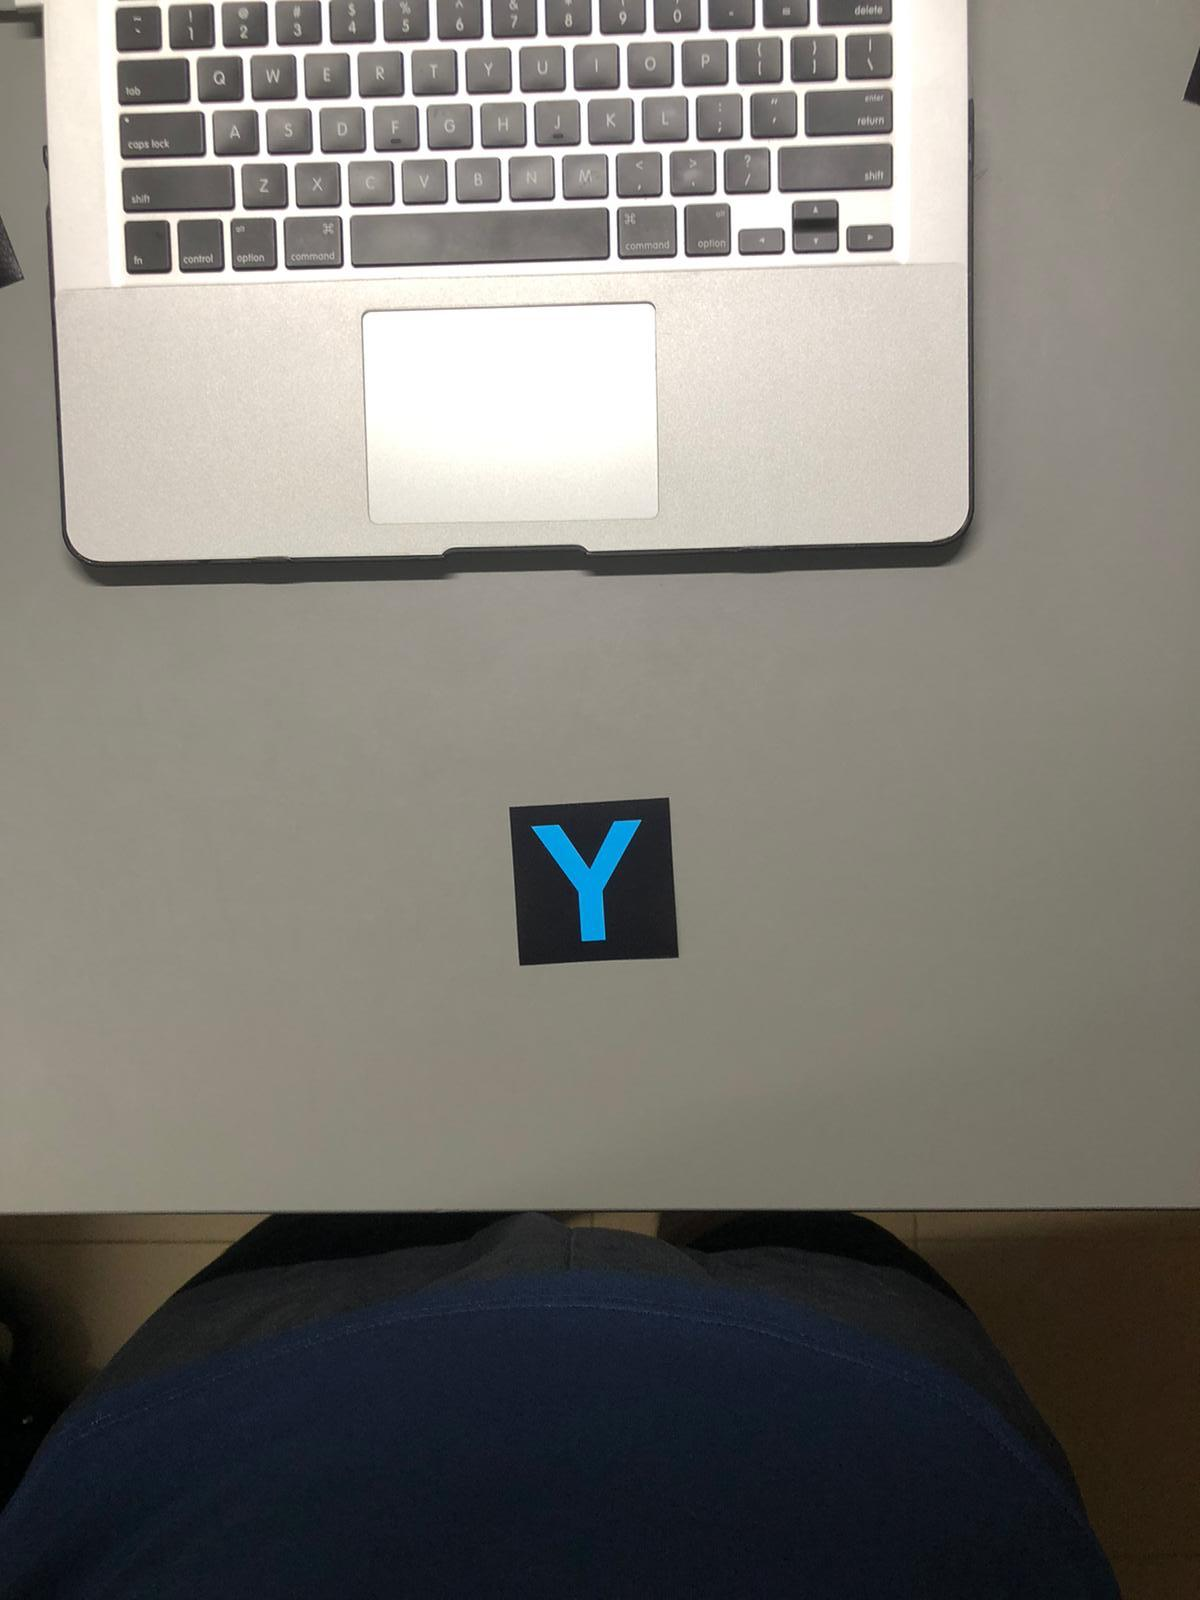Y: (511, 803, 671, 964)
